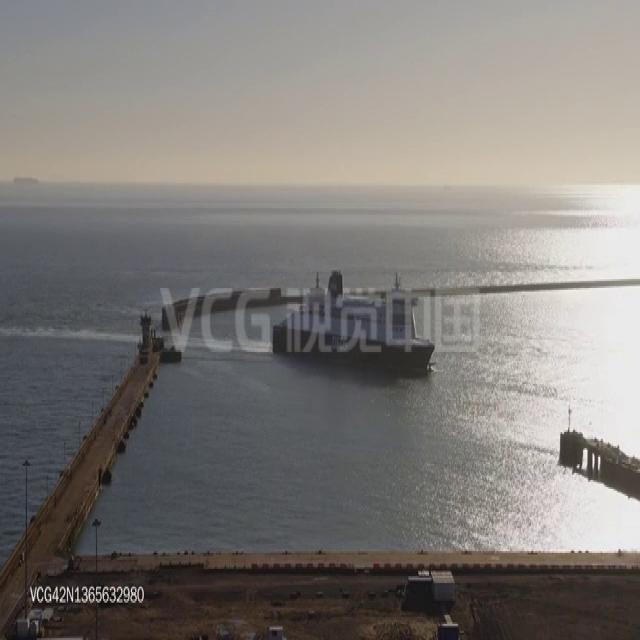passenger ship: (266, 266, 432, 374)
